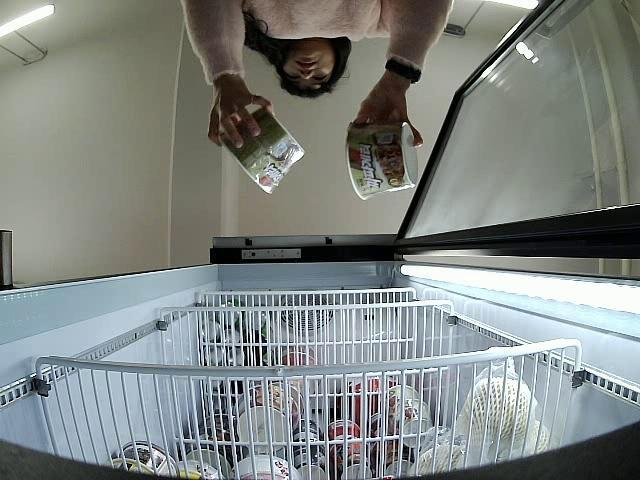03_chapagetti_L: (221, 106, 306, 196), (346, 120, 419, 199)
